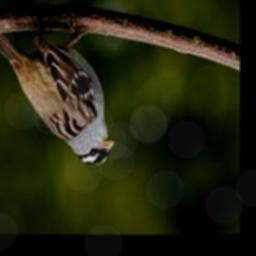Sparrow: (0, 14, 115, 167)
